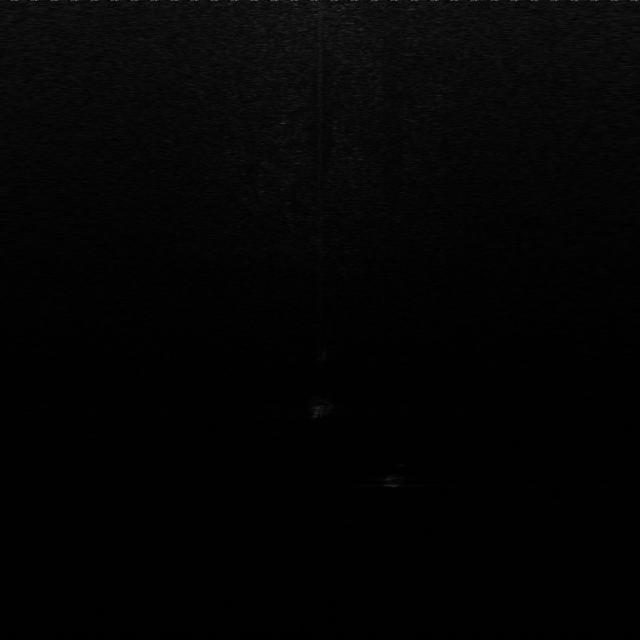circle cage: (304, 390, 344, 422)
tyre: (380, 459, 420, 492)
